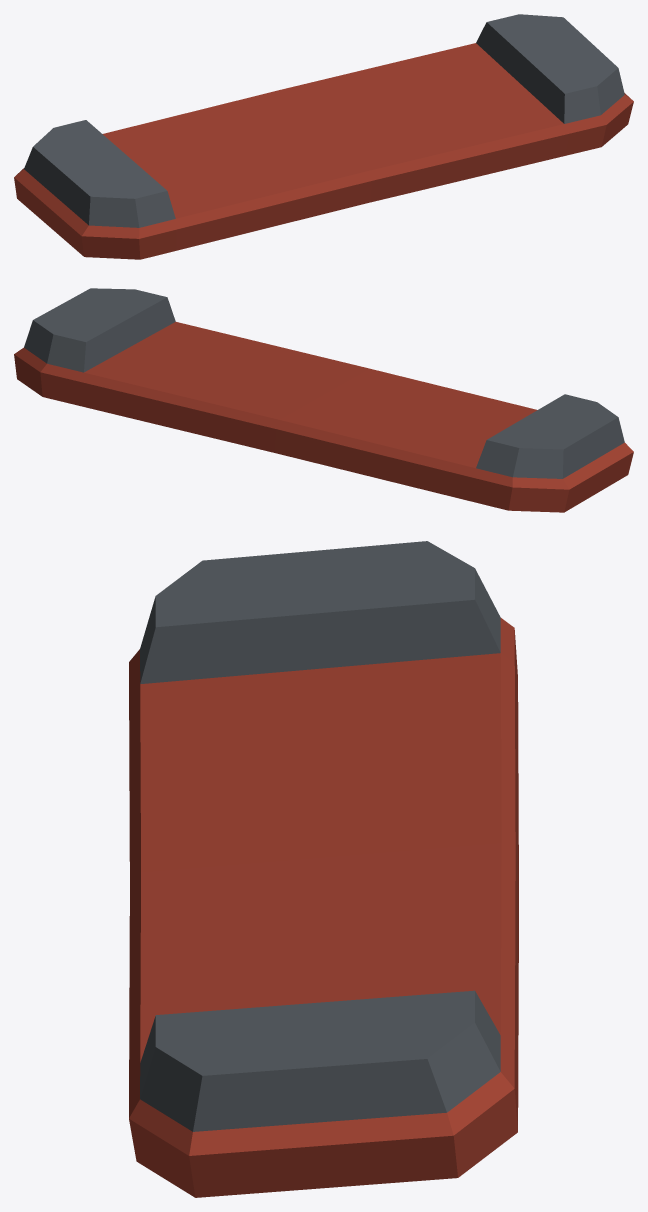
Rendered from Mothership_01_Detail_3_Red.fbx.
3 renders of one model, top to bottom at view 1: azimuth 30°, elevation 25°; view 2: azimuth 150°, elevation 25°; view 3: azimuth 270°, elevation 25°, orthographic. The views are drawn at different scales.
Parts seen in each view (by area): view 1: Mothership_01_Detail_3_Red; view 2: Mothership_01_Detail_3_Red; view 3: Mothership_01_Detail_3_Red.
Part boxes in pixels (<box>): Mothership_01_Detail_3_Red: <box>14,14,633,259</box>; Mothership_01_Detail_3_Red: <box>14,288,633,512</box>; Mothership_01_Detail_3_Red: <box>129,541,518,1197</box>.
Size of the model in its own units: 1299 by 158 by 395.
Materials: 1 (1 with a texture image).
